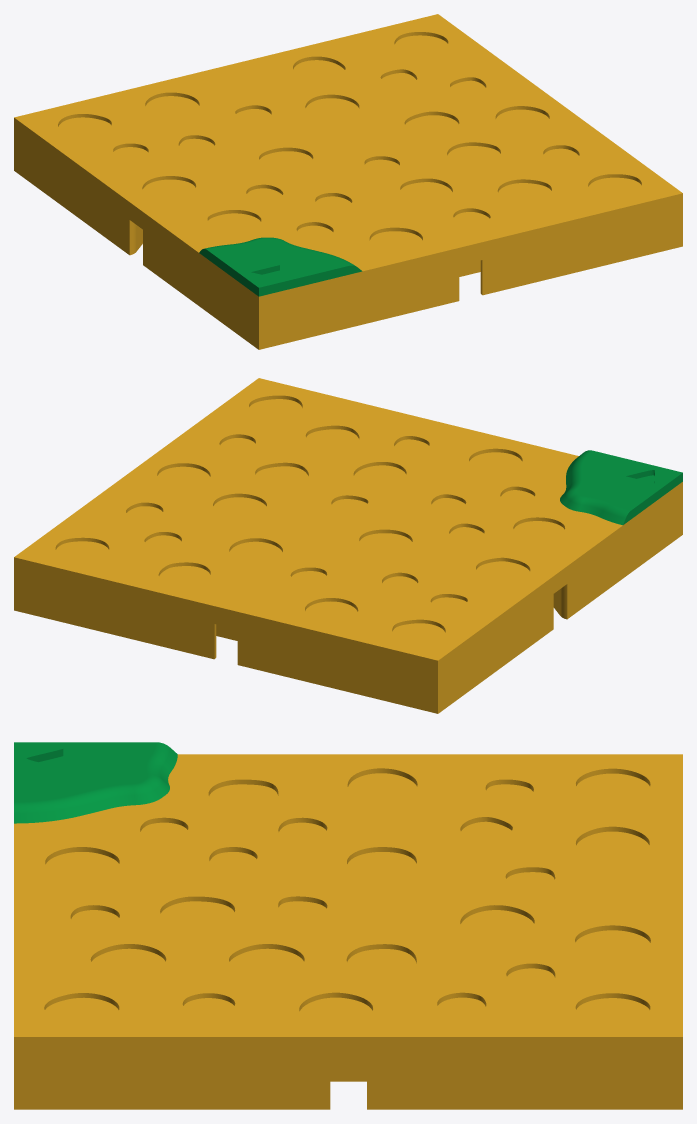
Rendered from 5x5 Grass On Sand Outer Corner.obj.
The picture shows the model from 3 angles, top to bottom: view 1: azimuth 30°, elevation 25°; view 2: azimuth 150°, elevation 25°; view 3: azimuth 270°, elevation 25°; orthographic projection. The views are drawn at different scales.
Parts seen in each view (by area): view 1: Körper1:1, Körper1; view 2: Körper1:1, Körper1; view 3: Körper1:1, Körper1.
Boxes of the visible parts, left/top/right/bottom form: Körper1:1: left=14, top=14, right=682, bottom=349; Körper1: left=199, top=237, right=362, bottom=296; Körper1:1: left=14, top=378, right=682, bottom=713; Körper1: left=560, top=450, right=682, bottom=525; Körper1:1: left=14, top=754, right=682, bottom=1109; Körper1: left=14, top=742, right=177, bottom=823.
Bounding box in the file's own units: 50 × 7 × 50.
